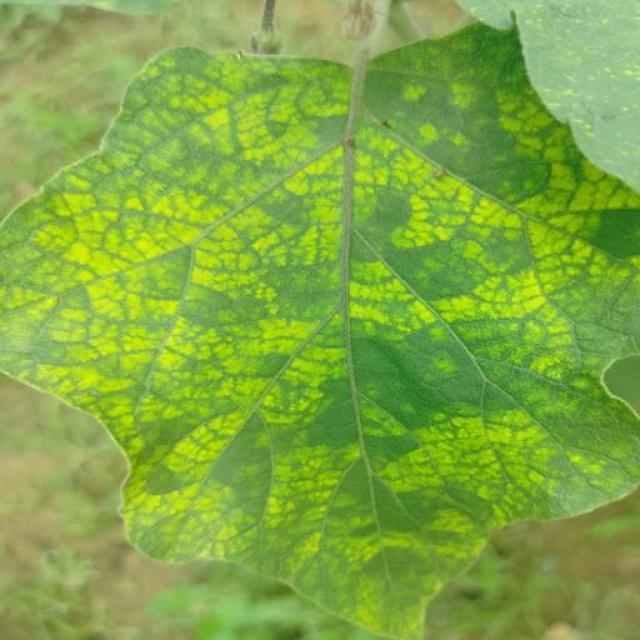leaf_spot: (105, 383, 262, 560), (261, 530, 487, 640), (117, 406, 238, 548), (29, 158, 202, 252), (2, 202, 75, 410), (242, 404, 340, 554), (124, 296, 236, 415), (52, 228, 178, 328), (190, 231, 310, 335), (213, 318, 330, 422), (104, 100, 220, 194), (278, 140, 362, 266), (62, 312, 148, 423), (323, 244, 414, 346), (567, 369, 640, 488), (398, 500, 492, 587), (398, 402, 494, 486), (333, 472, 411, 568), (214, 167, 286, 267), (127, 41, 215, 117), (168, 78, 250, 155), (257, 63, 365, 121), (231, 108, 330, 170), (471, 446, 543, 530), (406, 288, 465, 390), (275, 442, 329, 546), (521, 302, 596, 376), (147, 440, 210, 527), (460, 270, 546, 332), (385, 244, 469, 303), (571, 151, 640, 220), (200, 42, 280, 99), (530, 246, 598, 312), (447, 230, 539, 278), (342, 386, 413, 448), (482, 409, 559, 466), (386, 172, 446, 241), (360, 130, 421, 196), (548, 442, 618, 492), (508, 99, 560, 154), (466, 196, 525, 241), (536, 143, 581, 200), (541, 228, 608, 265), (595, 242, 640, 292), (446, 71, 492, 114), (176, 418, 222, 460), (514, 210, 553, 256), (445, 170, 478, 221), (353, 576, 384, 629), (492, 80, 518, 140), (396, 80, 436, 108), (413, 120, 443, 148), (445, 130, 480, 152)
